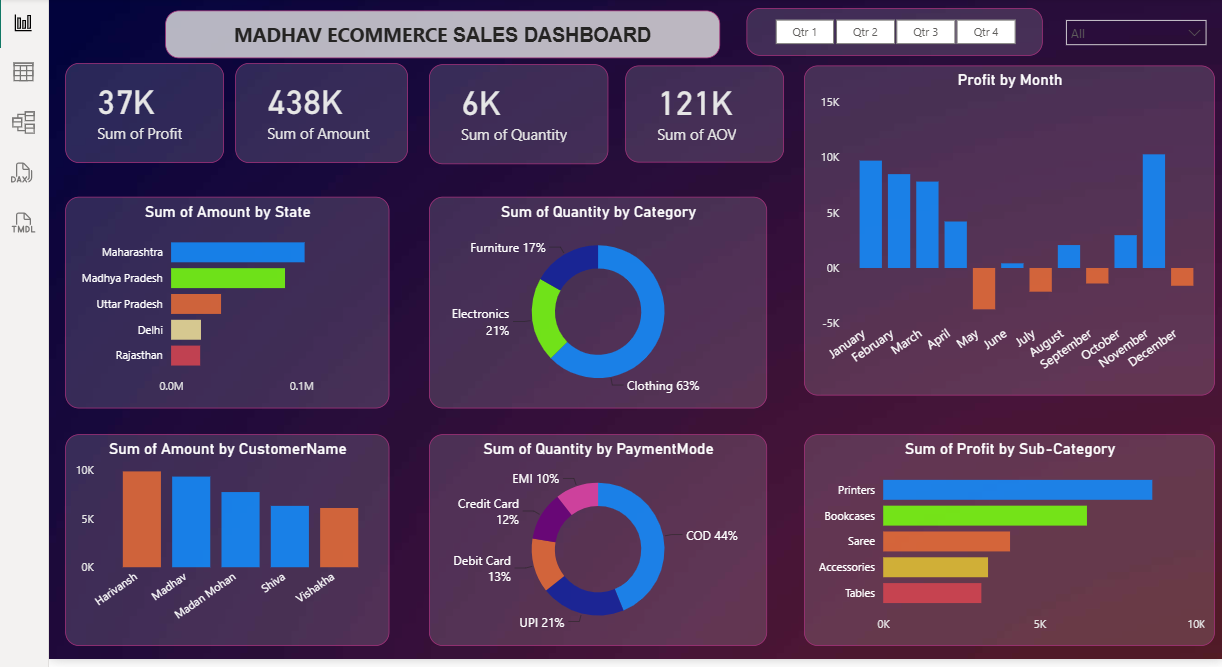

The dashboard page shown, as its layout file describes it:
{"tool":"powerbi","page":{"name":"Page 1","canvas":[1280,720],"ordinal":0},"visuals":[{"type":"textbox","box":[126.2,13.7,603.8,52.1],"z":0},{"type":"columnChart","title":"Profit by Month","fields":{"Category":["Orders (2).Order Date.Variation.Date Hierarchy.Month"],"Y":["Sum(Details (1).Profit)"]},"box":[822,74.1,447.3,359.5],"z":1000},{"type":"barChart","fields":{"Category":["Details (1).Sub-Category"],"Y":["Sum(Details (1).Profit)"]},"box":[822,474.8,447.3,230.5],"z":2000},{"type":"donutChart","fields":{"Category":["Details (1).Category"],"Y":["Sum(Details (1).Quantity)"]},"box":[413,216.8,367.8,230.5],"z":3000},{"type":"donutChart","fields":{"Category":["Details (1).PaymentMode"],"Y":["Sum(Details (1).Quantity)"]},"box":[413,474.8,367.8,230.5],"z":4000},{"type":"cardVisual","fields":{"Data":["Sum(Details (1).Amount)"]},"box":[203.1,71.4,188,108.4],"z":5000},{"type":"cardVisual","fields":{"Data":["Sum(Details (1).Quantity)"]},"box":[413,72.7,194.9,108.4],"z":6000},{"type":"cardVisual","fields":{"Data":["Sum(Details (1).Profit)"]},"box":[17.8,71.4,172.9,108.4],"z":7000},{"type":"cardVisual","fields":{"Data":["Sum(Details (1).AOV)"]},"box":[627.1,74.1,172.9,105.7],"z":8000},{"type":"barChart","fields":{"Category":["Orders (2).State"],"Y":["Sum(Details (1).Amount)"]},"box":[17.8,216.8,352.7,230.5],"z":9000},{"type":"columnChart","fields":{"Y":["Sum(Details (1).Amount)"],"Category":["Orders (2).CustomerName"]},"box":[17.8,474.8,352.7,230.5],"z":10000},{"type":"slicer","fields":{"Values":["Orders (2).Order Date.Variation.Date Hierarchy.Quarter"]},"box":[758.8,11,322.5,52.1],"z":11000},{"type":"slicer","fields":{"Values":["Orders (2).State"]},"box":[1096.4,13.7,172.9,49.4],"z":12000}]}

Visuals, with their boxes in screenshot pixels (x1, y1, x2, y2):
textbox: detection(148, 3, 721, 53)
"Profit by Month" columnChart: detection(809, 61, 1221, 402)
barChart - Details (1).Sub-Category x Sum(Details (1).Profit): detection(809, 441, 1221, 660)
donutChart - Details (1).Category x Sum(Details (1).Quantity): detection(421, 196, 770, 415)
donutChart - Details (1).PaymentMode x Sum(Details (1).Quantity): detection(421, 441, 770, 660)
cardVisual - Sum(Details (1).Amount): detection(221, 58, 400, 161)
cardVisual - Sum(Details (1).Quantity): detection(421, 59, 606, 162)
cardVisual - Sum(Details (1).Profit): detection(46, 58, 210, 161)
cardVisual - Sum(Details (1).AOV): detection(624, 61, 788, 161)
barChart - Orders (2).State x Sum(Details (1).Amount): detection(46, 196, 380, 415)
columnChart - Sum(Details (1).Amount) x Orders (2).CustomerName: detection(46, 441, 380, 660)
slicer - Orders (2).Order Date.Variation.Date Hierarchy.Quarter: detection(749, 1, 1055, 50)
slicer - Orders (2).State: detection(1069, 3, 1221, 50)
